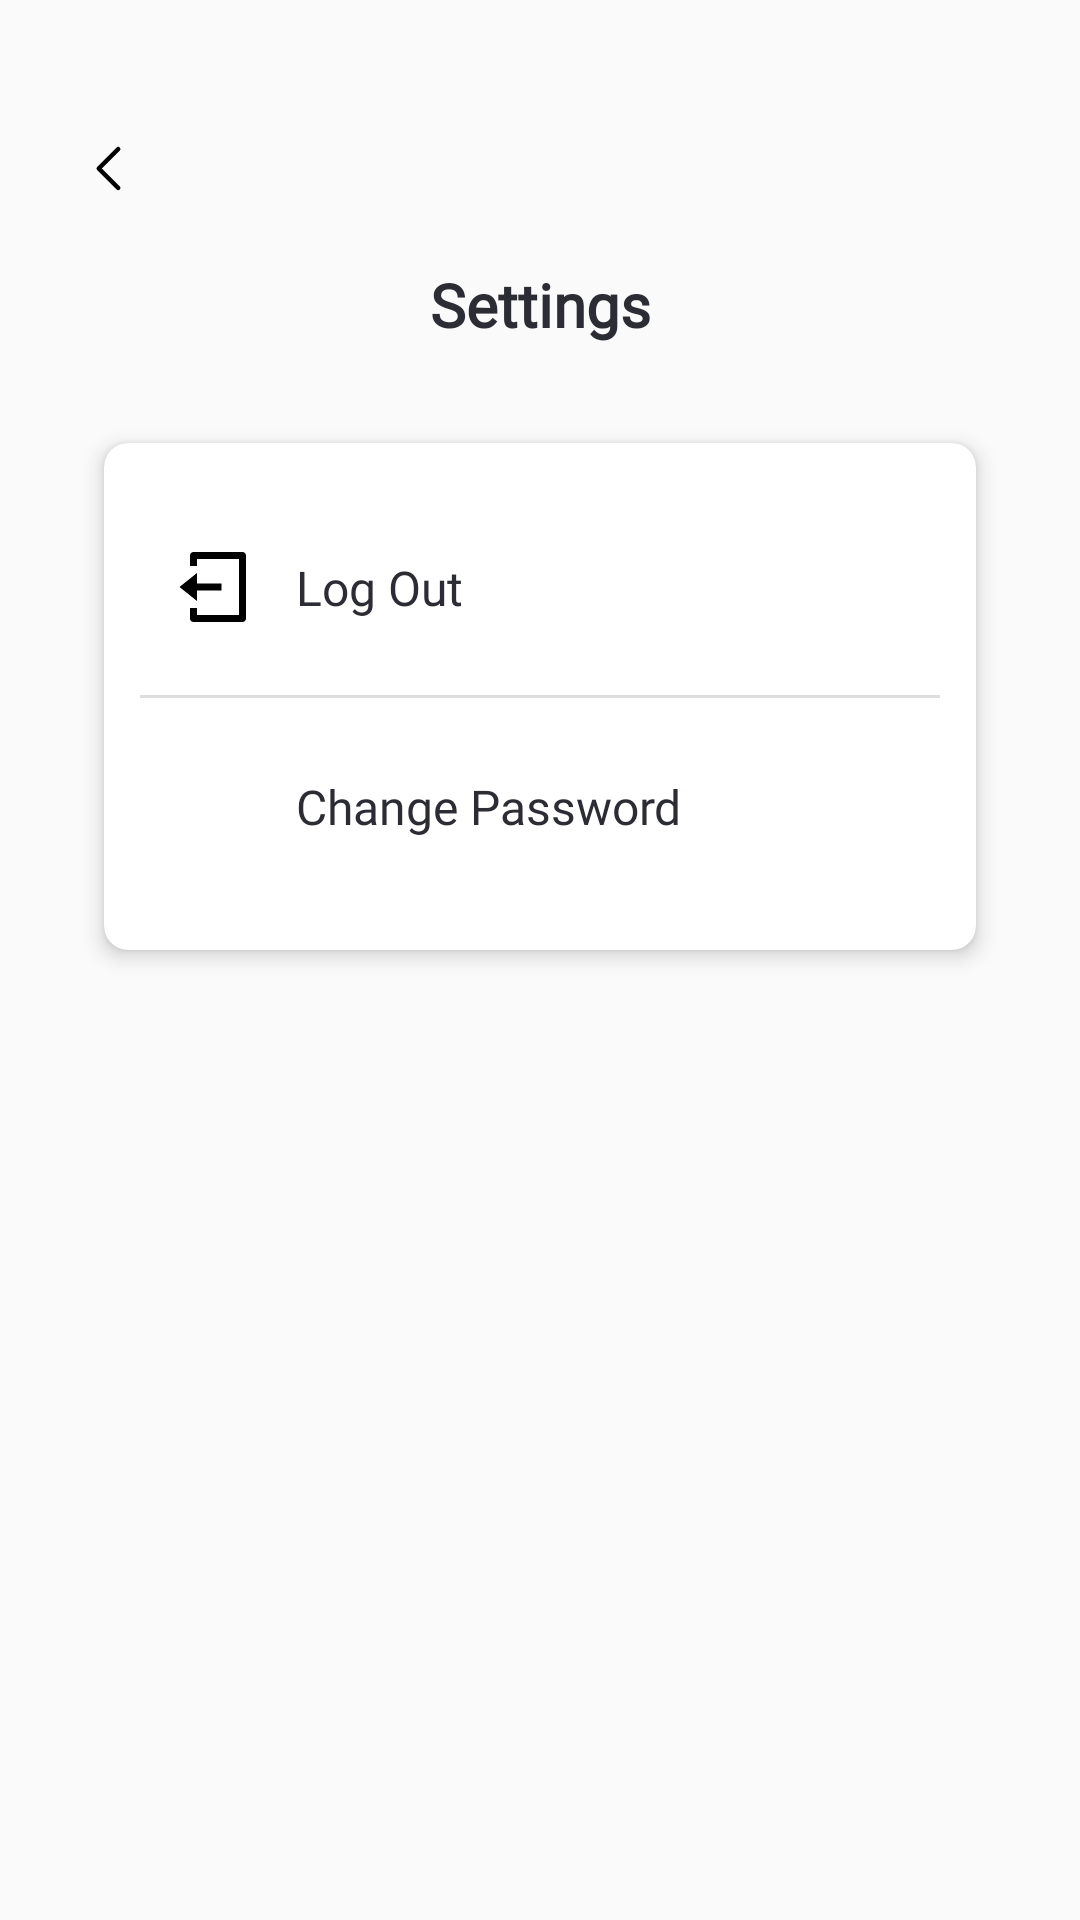

Screen size 1080px×1920px. Icon name, then its center in pixels as [x,y]:
Back: [108,168]
